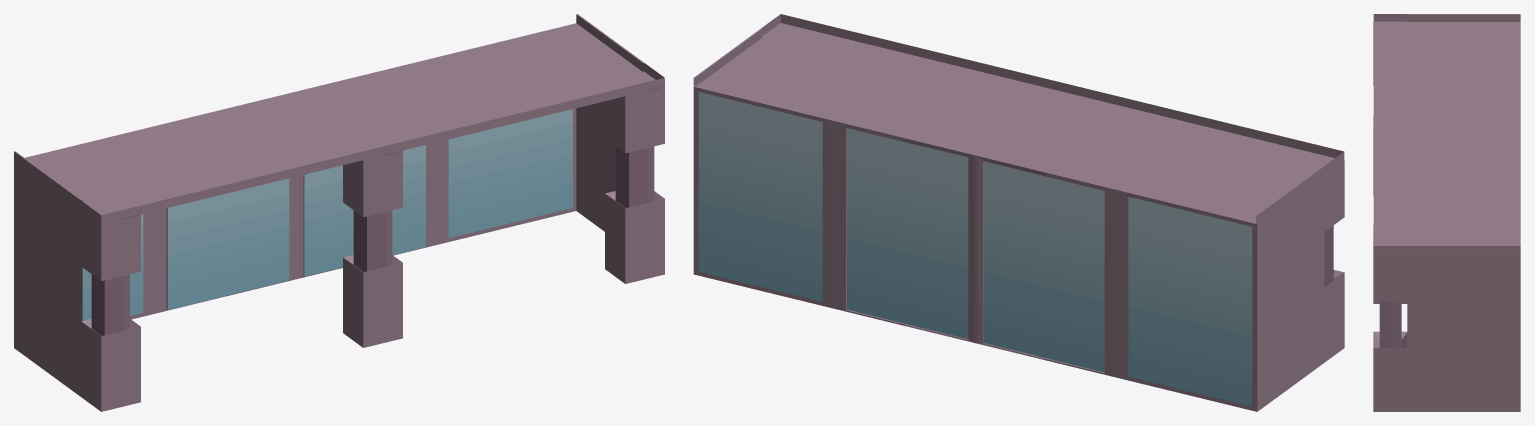
The model's file is Skyscraper Inward Entrance.fbx.
3 views of the same model, side by side, from view 1: azimuth 30°, elevation 25°; view 2: azimuth 150°, elevation 25°; view 3: azimuth 270°, elevation 25° (orthographic). The views are drawn at different scales.
Parts seen in each view (by area): view 1: pCube82; view 2: pCube82; view 3: pCube82.
Part boxes in pixels (bbox=[...]): pCube82: bbox=[14, 14, 664, 411]; pCube82: bbox=[693, 14, 1344, 411]; pCube82: bbox=[1373, 14, 1520, 411].
Bounding box in the file's own units: 691 × 230 × 185.
